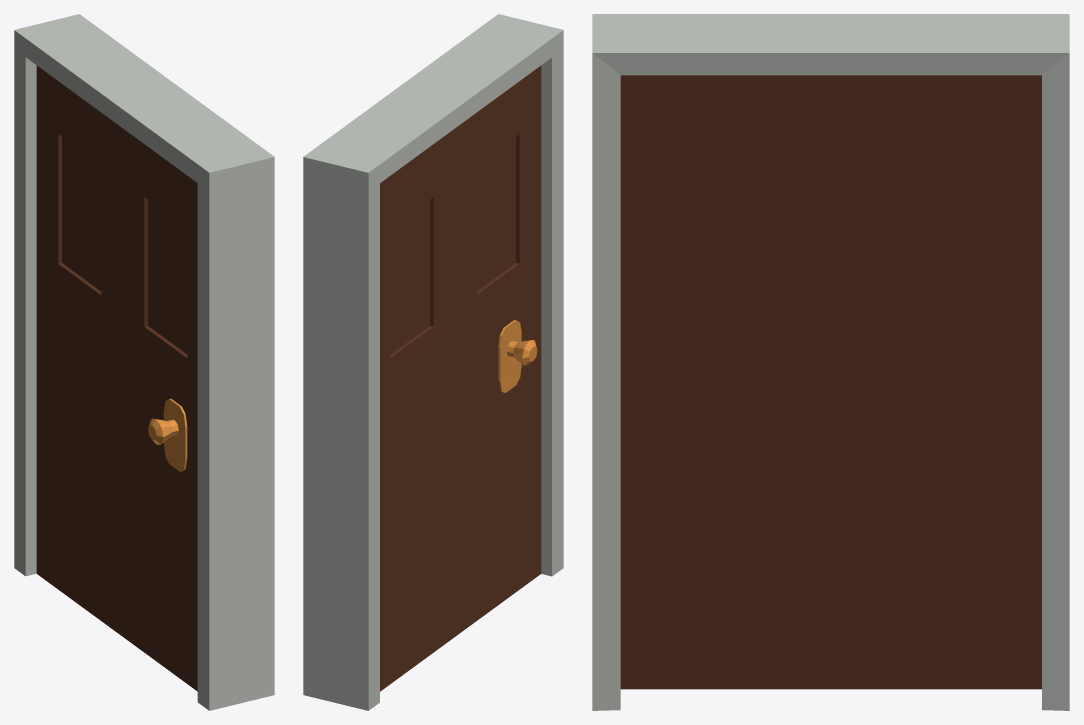
The model's file is Tuer_anim_150_228.glb.
The picture shows the model from 3 angles, left to right: view 1: azimuth 30°, elevation 25°; view 2: azimuth 150°, elevation 25°; view 3: azimuth 270°, elevation 25°; orthographic projection. The views are drawn at different scales.
Parts seen in each view (by area): view 1: Tuer.006, Tuerrahmen.006, Doorhandle.008; view 2: Tuer.006, Tuerrahmen.006, Doorhandle.008; view 3: Tuer.006, Tuerrahmen.006.
Boxes of the visible parts, left/top/right/bottom form: Tuer.006: left=36, top=65, right=197, bottom=691; Tuerrahmen.006: left=14, top=14, right=274, bottom=710; Doorhandle.008: left=148, top=398, right=187, bottom=471; Tuer.006: left=380, top=65, right=541, bottom=691; Tuerrahmen.006: left=303, top=14, right=563, bottom=710; Doorhandle.008: left=498, top=320, right=537, bottom=392; Tuer.006: left=620, top=75, right=1041, bottom=689; Tuerrahmen.006: left=592, top=14, right=1069, bottom=710.
Bounding box in the file's own units: 0.3485 × 2.28 × 1.5.
